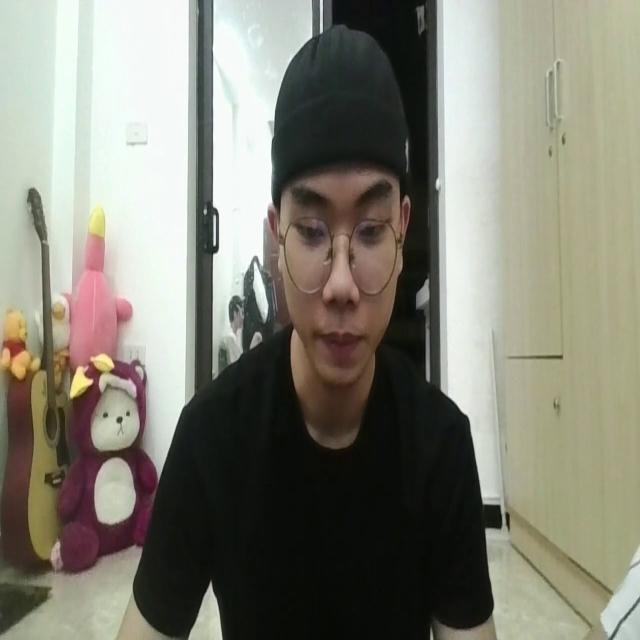student: (125, 21, 496, 640)
